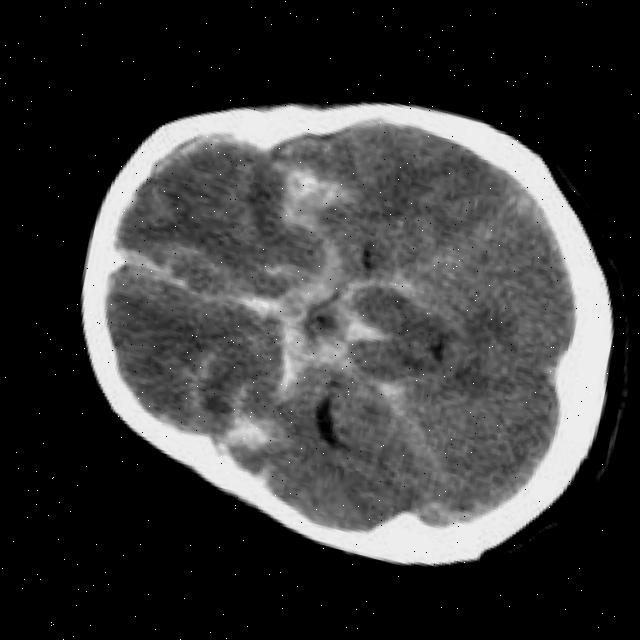NoTumor: (31, 23, 640, 614)
